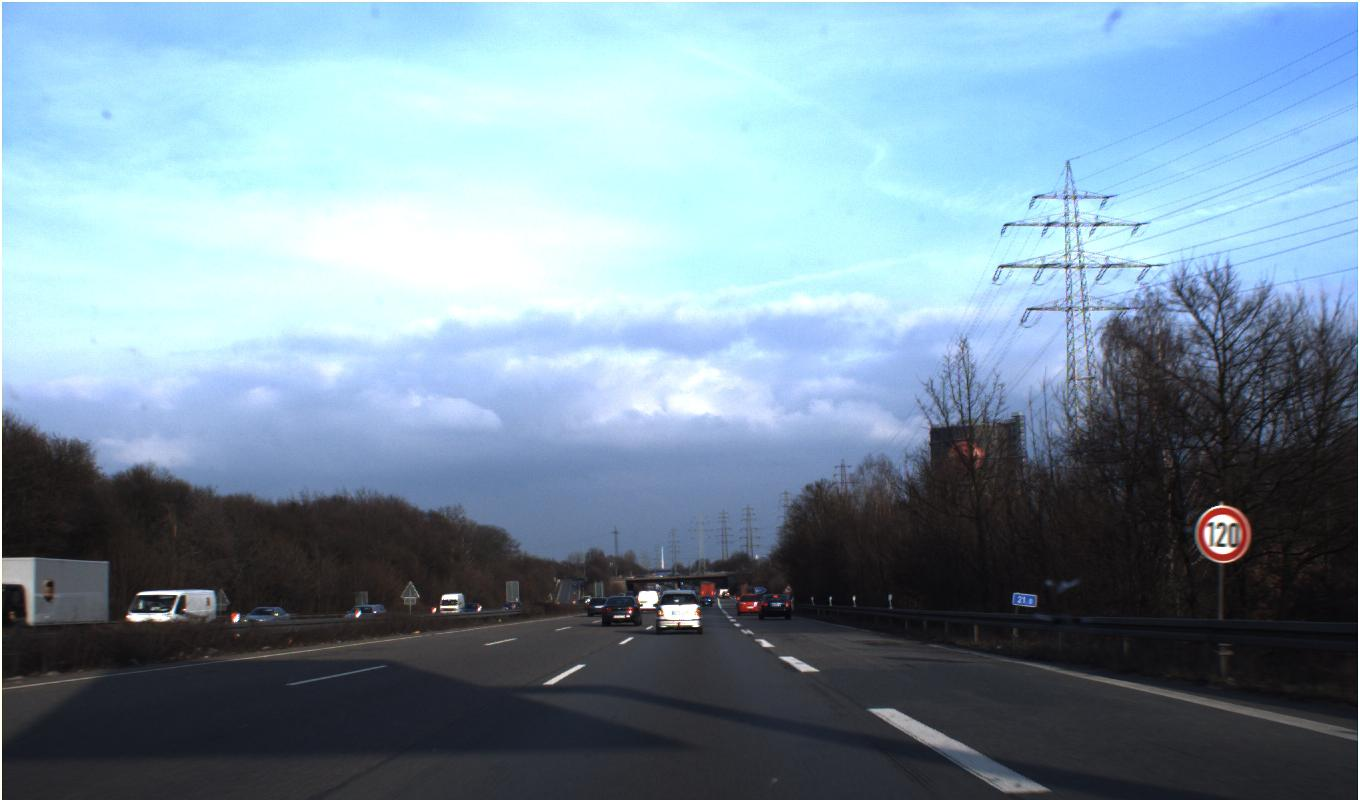prohibitory: (1194, 504, 1251, 564)
